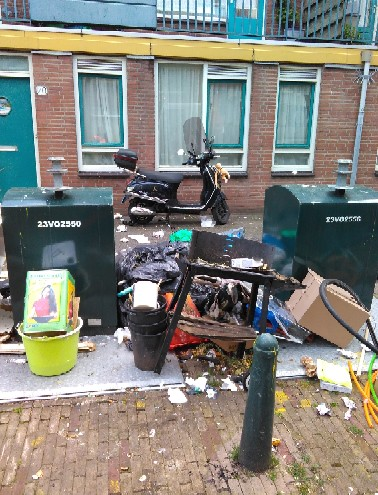Container: (6, 179, 114, 264), (273, 185, 378, 261)
Papier: (291, 278, 361, 351)
Plastic: (12, 276, 87, 362)
Rest: (166, 226, 271, 334), (127, 237, 198, 375)
Voertuig: (126, 145, 229, 225)
